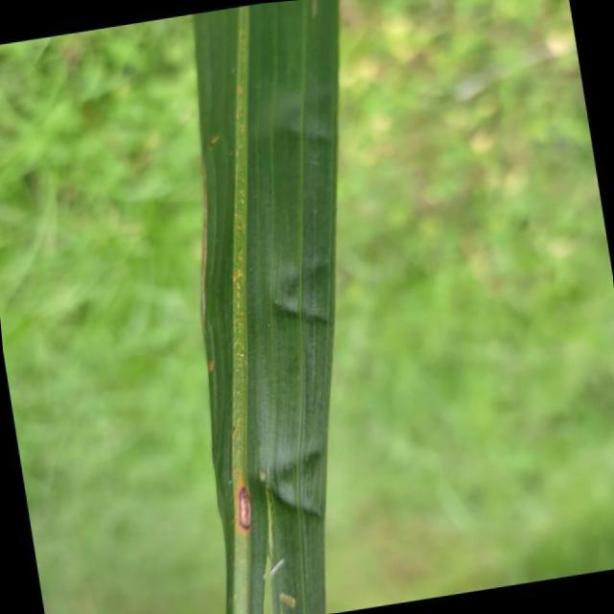Boron: (197, 3, 336, 614)
